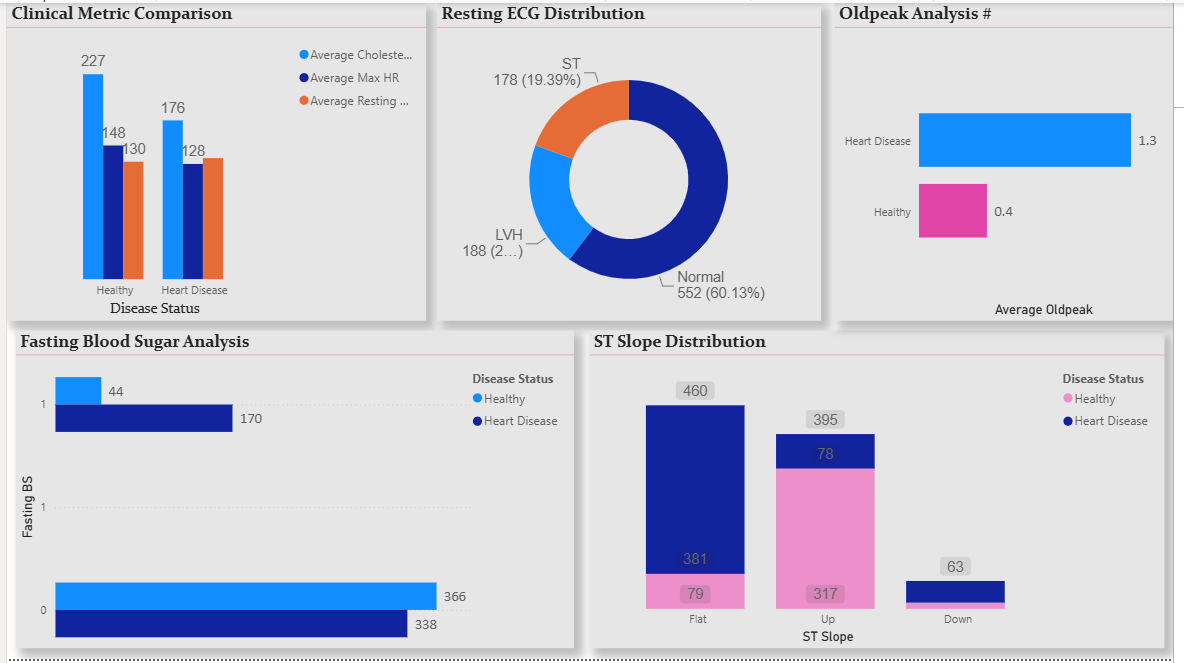

What the dashboard file says about the page in this screenshot:
{"tool":"powerbi","page":{"name":"Clinical Analysis","canvas":[1280,720],"ordinal":2},"visuals":[{"type":"clusteredColumnChart","title":"Clinical Metric Comparison ","fields":{"Category":["heart_db heart.Disease Status"],"Y":["heart_db heart.Average Cholesterol","heart_db heart.Average Max HR","heart_db heart.Average Resting BP"]},"box":[0,0,459.7,348.5],"z":0},{"type":"donutChart","title":"Resting ECG Distribution ","fields":{"Category":["heart_db heart.resting_ecg"],"Y":["CountNonNull(heart_db heart.patient_id)"]},"box":[472,0,421.3,348.5],"z":1000},{"type":"clusteredBarChart","title":"Fasting Blood Sugar Analysis ","fields":{"Category":["heart_db heart.fasting_bs"],"Series":["heart_db heart.Disease Status"],"Y":["heart_db heart.Total Patients"]},"box":[9.6,359.5,613,349],"z":2000},{"type":"columnChart","title":"ST Slope Distribution ","fields":{"Category":["heart_db heart.st_slope"],"Series":["heart_db heart.Disease Status"],"Y":["heart_db heart.Total Patients"]},"box":[639.5,359.5,631.2,348.5],"z":3000},{"type":"barChart","title":"Oldpeak Analysis #","fields":{"Category":["heart_db heart.Disease Status"],"Y":["heart_db heart.Average Oldpeak"]},"box":[908.4,0,371.9,348.5],"z":4000}]}

Visuals, with their boxes in screenshot pixels (x1, y1, x2, y2), scaled from the page's 1280x720 canvas onto the 1184x663 screenshot:
"Clinical Metric Comparison " clusteredColumnChart: 0 0 425 321
"Resting ECG Distribution " donutChart: 437 0 826 321
"Fasting Blood Sugar Analysis " clusteredBarChart: 9 331 576 652
"ST Slope Distribution " columnChart: 592 331 1175 652
"Oldpeak Analysis #" barChart: 840 0 1183 321
